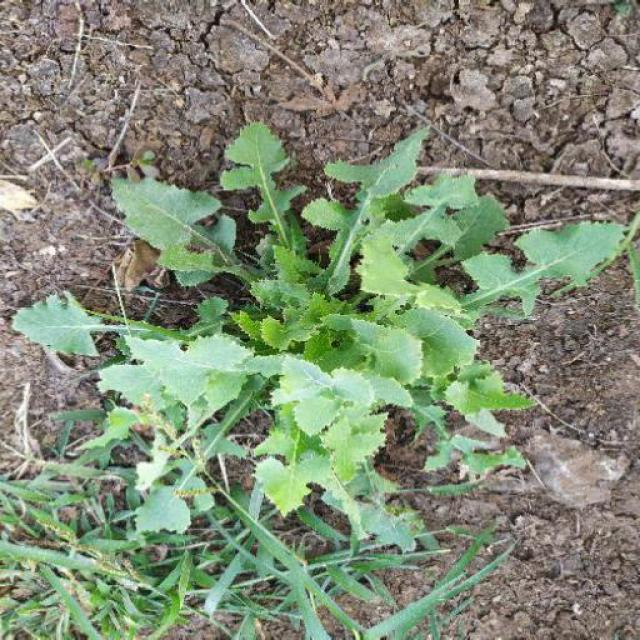weed: (7, 90, 625, 590)
